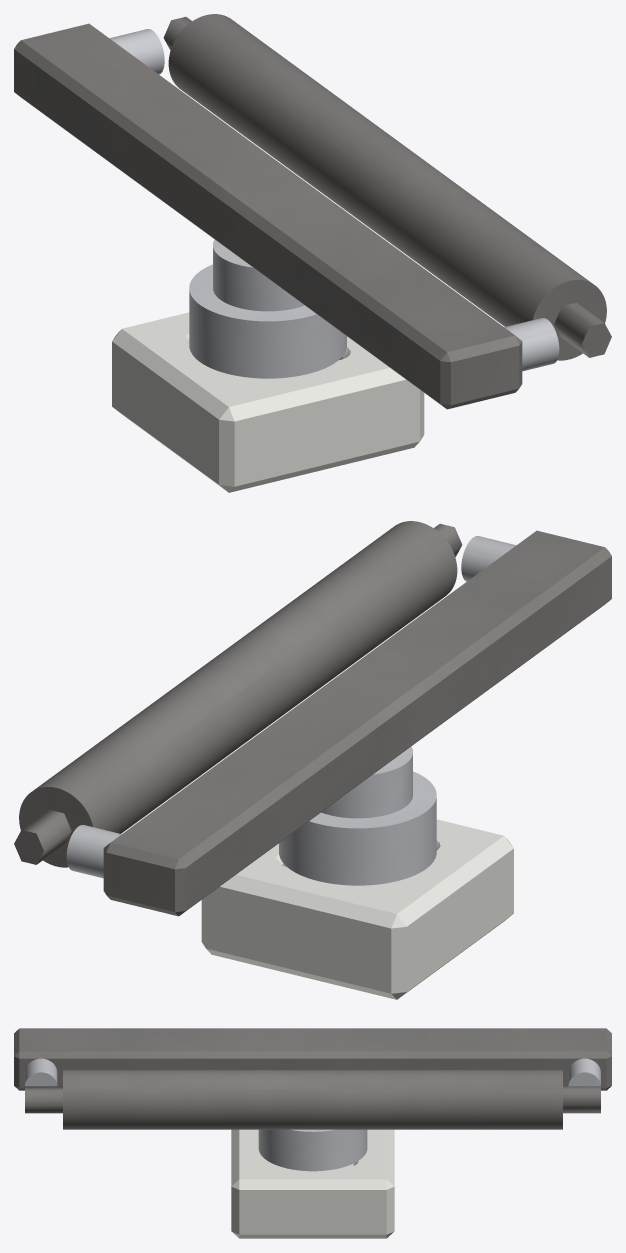
File: ax_power_01_roll_out_array_s.glb
The picture shows the model from 3 angles, top to bottom: view 1: azimuth 30°, elevation 25°; view 2: azimuth 150°, elevation 25°; view 3: azimuth 270°, elevation 25°; orthographic projection. The views are drawn at different scales.
Parts seen in each view (by area): view 1: yoke, panel_roll, mount_block, gimbal, boom_1, boom_2; view 2: yoke, panel_roll, mount_block, gimbal, boom_2, boom_1; view 3: panel_roll, yoke, mount_block, gimbal, boom_1, boom_2.
Part boxes in pixels (<box>): yoke: <box>14,23,522,409</box>; panel_roll: <box>163,14,611,360</box>; mount_block: <box>112,312,424,492</box>; gimbal: <box>189,239,346,378</box>; boom_1: <box>504,318,559,371</box>; boom_2: <box>110,29,164,74</box>; yoke: <box>103,530,611,916</box>; panel_roll: <box>14,521,462,867</box>; mount_block: <box>201,819,513,999</box>; gimbal: <box>279,746,436,885</box>; boom_2: <box>66,825,121,878</box>; boom_1: <box>461,536,515,581</box>; panel_roll: <box>25,1070,600,1129</box>; yoke: <box>14,1028,611,1090</box>; mount_block: <box>231,1129,394,1238</box>; gimbal: <box>258,1129,367,1171</box>; boom_1: <box>25,1058,57,1086</box>; boom_2: <box>568,1058,600,1086</box>.
Size of the model in its own units: 0.38 by 0.355 by 1.1.
3 materials, 2 textured.
